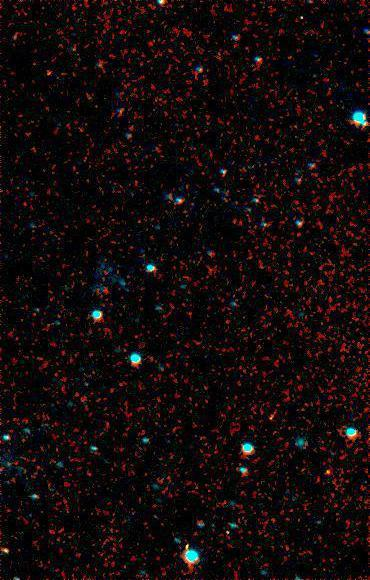star: (33, 58, 63, 88)
